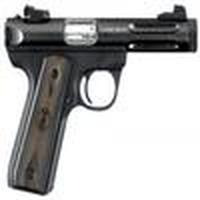gun: (2, 6, 200, 188)
